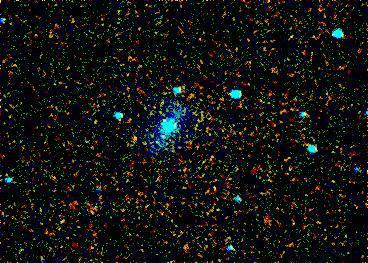star: (119, 123, 149, 153)
